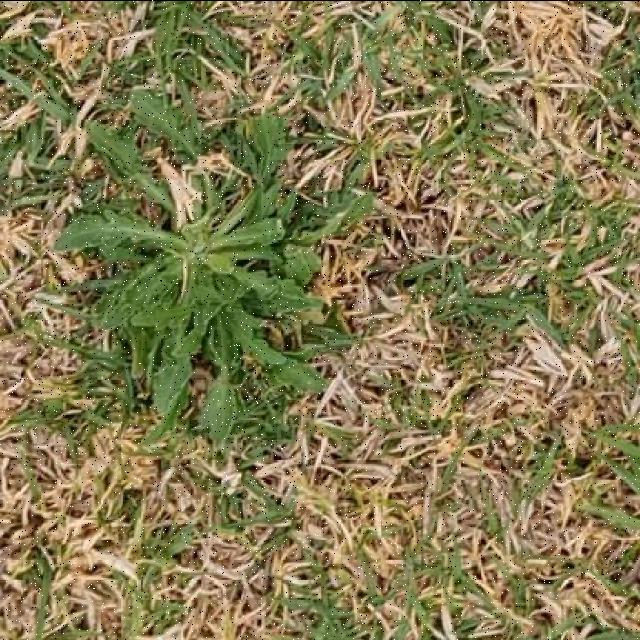weed: (55, 80, 375, 442)
